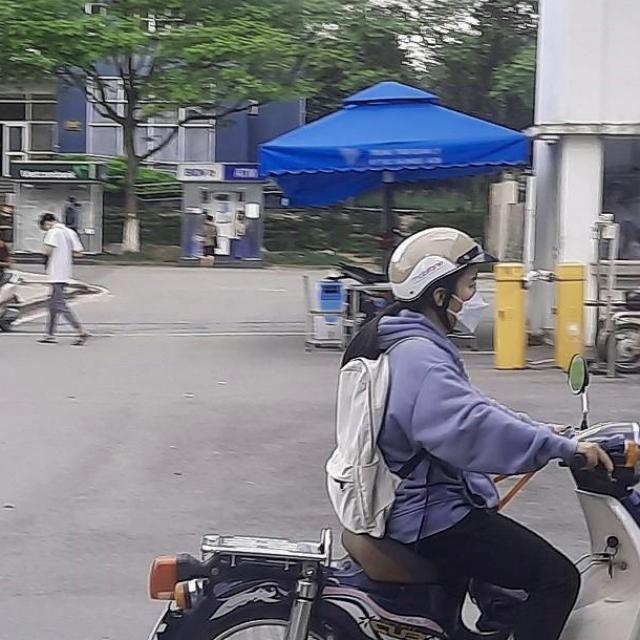Helmet: (390, 224, 490, 322)
